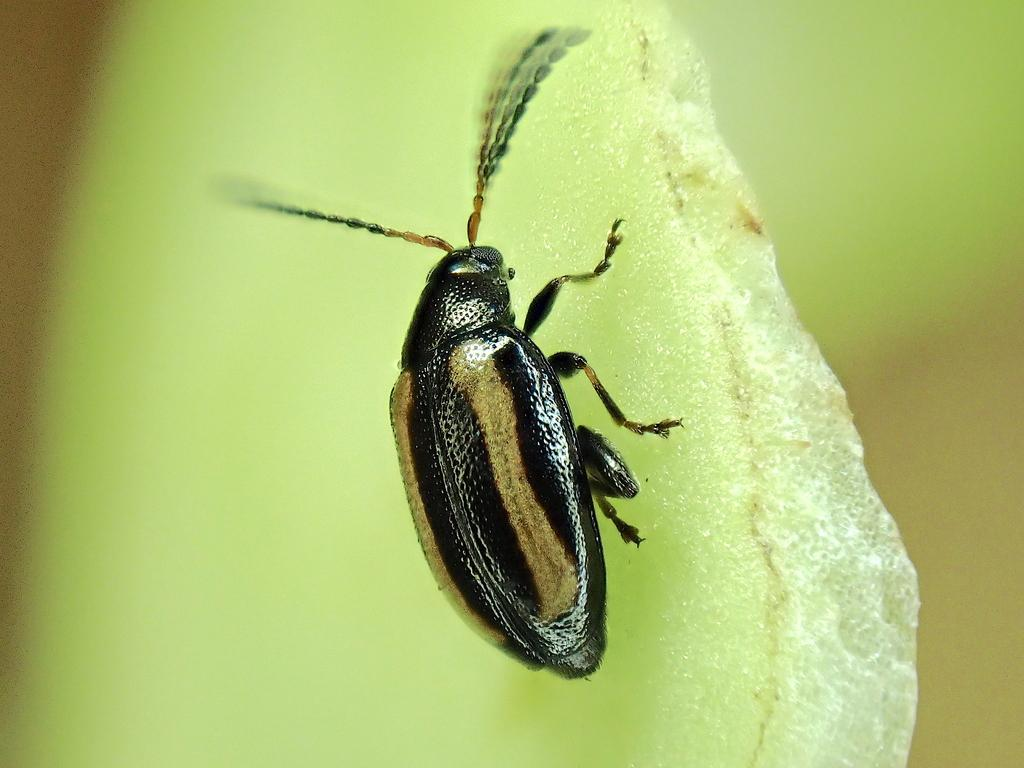flea_beetle: (176, 0, 764, 716)
